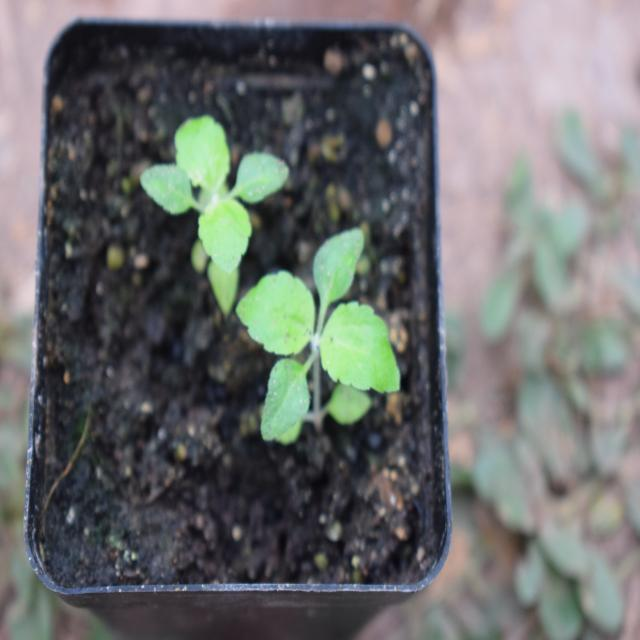billygoat_weed: (248, 228, 398, 454), (144, 105, 286, 308)
